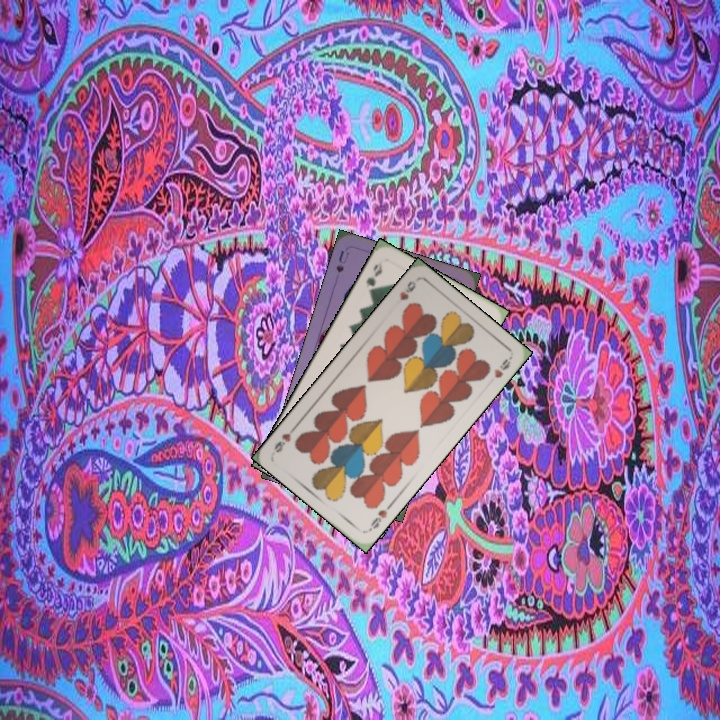G9: (361, 257, 385, 297)
H9: (364, 500, 394, 534), (395, 277, 419, 303)
SU: (332, 246, 352, 275)
